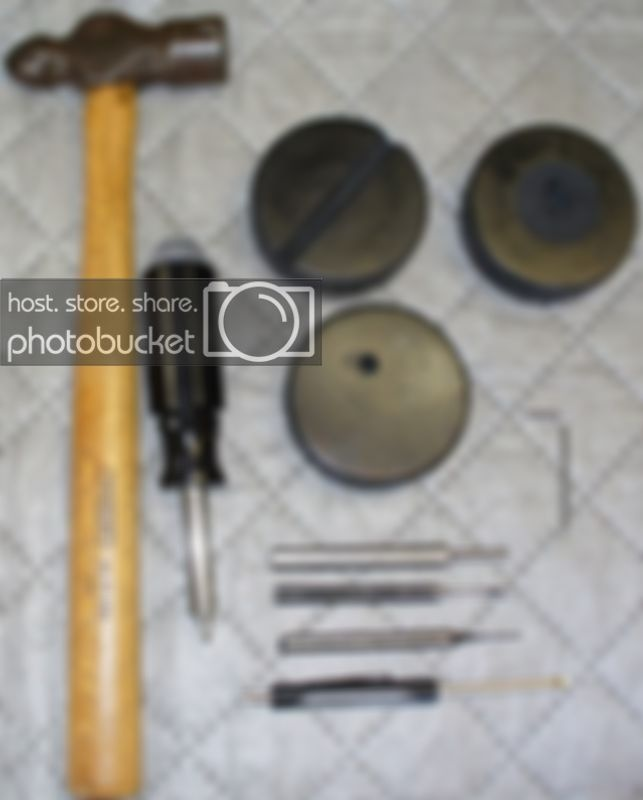hammer: (8, 9, 229, 246)
